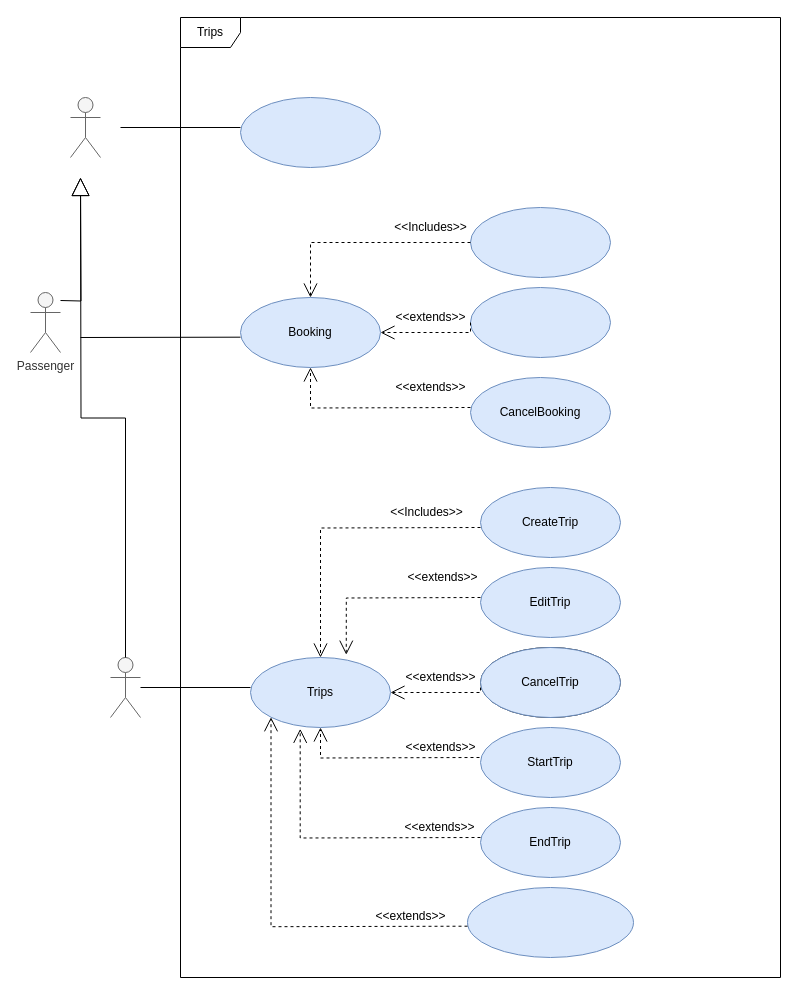
Some shapes in this 798 by 995 pixel diagram are drawn without their labels. The centre of each missing label's shape, as x and y in pixels:
BookTrip: point (540, 242)
Decline/AcceptPassengers: point (550, 922)
Driver: point (125, 687)
EditBooking: point (540, 322)
User: point (85, 127)
ViewTripHistory: point (310, 132)
